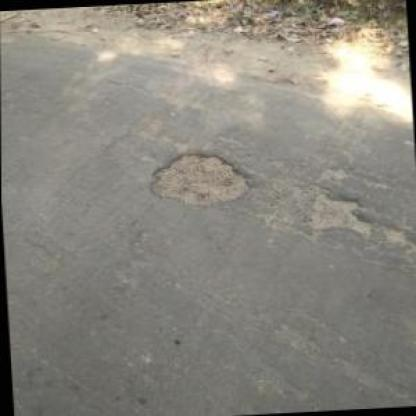pothole: (146, 147, 251, 211), (302, 187, 372, 241)
